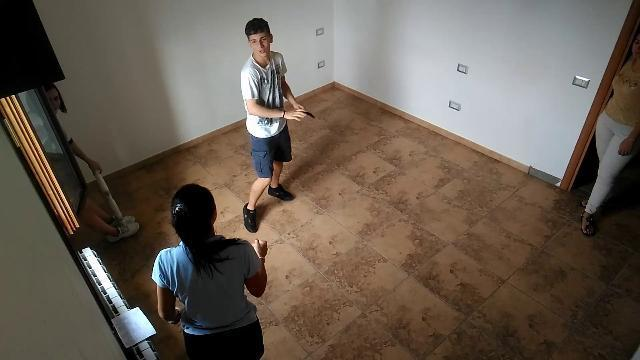non-violence: (150, 182, 270, 360), (24, 86, 142, 241), (237, 16, 309, 235), (577, 40, 640, 234)
weapon: (299, 110, 316, 118)
